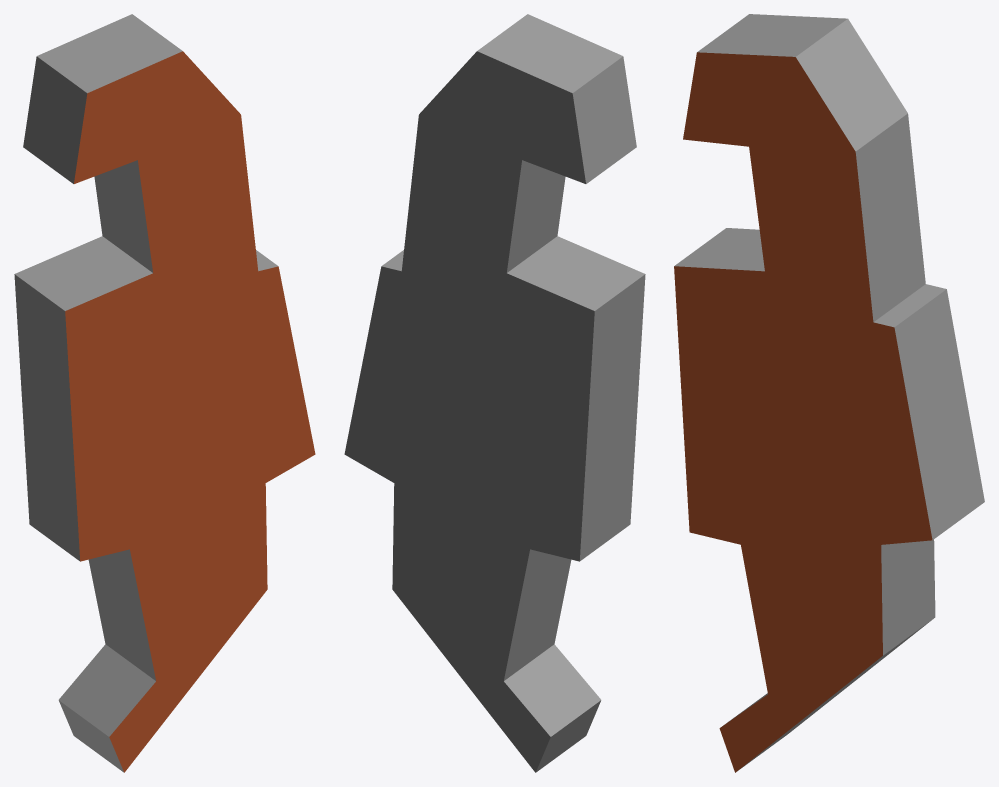
File: construction_3644_assumed_A_Casa_h6m.obj
The picture shows the model from 3 angles, left to right: view 1: azimuth 30°, elevation 25°; view 2: azimuth 150°, elevation 25°; view 3: azimuth 330°, elevation 25°; orthographic projection. The views are drawn at different scales.
Visible parts, largest first — view 1: construction_3644_assumed_A_Casa; view 2: construction_3644_assumed_A_Casa; view 3: construction_3644_assumed_A_Casa.
Boxes of the visible parts, box(x1,y1,x2,y2) form: construction_3644_assumed_A_Casa: box(14, 14, 315, 772); construction_3644_assumed_A_Casa: box(344, 14, 645, 772); construction_3644_assumed_A_Casa: box(674, 14, 984, 772).
Size of the model in its own units: 17.09 by 46.17 by 6.
